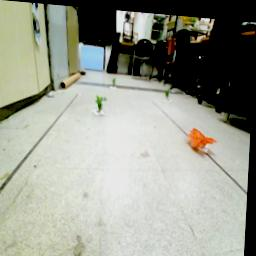herb: (96, 91, 110, 114), (165, 84, 174, 100), (113, 75, 119, 88)
wild: (188, 122, 223, 152)
